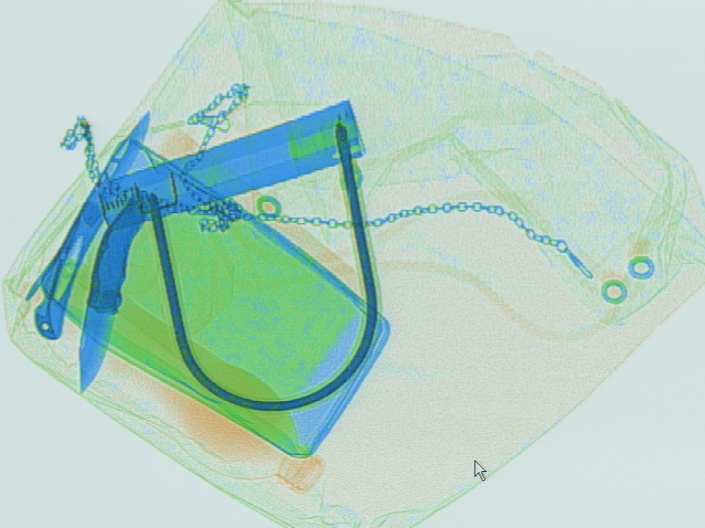knife: (23, 108, 152, 340), (76, 189, 149, 396)
